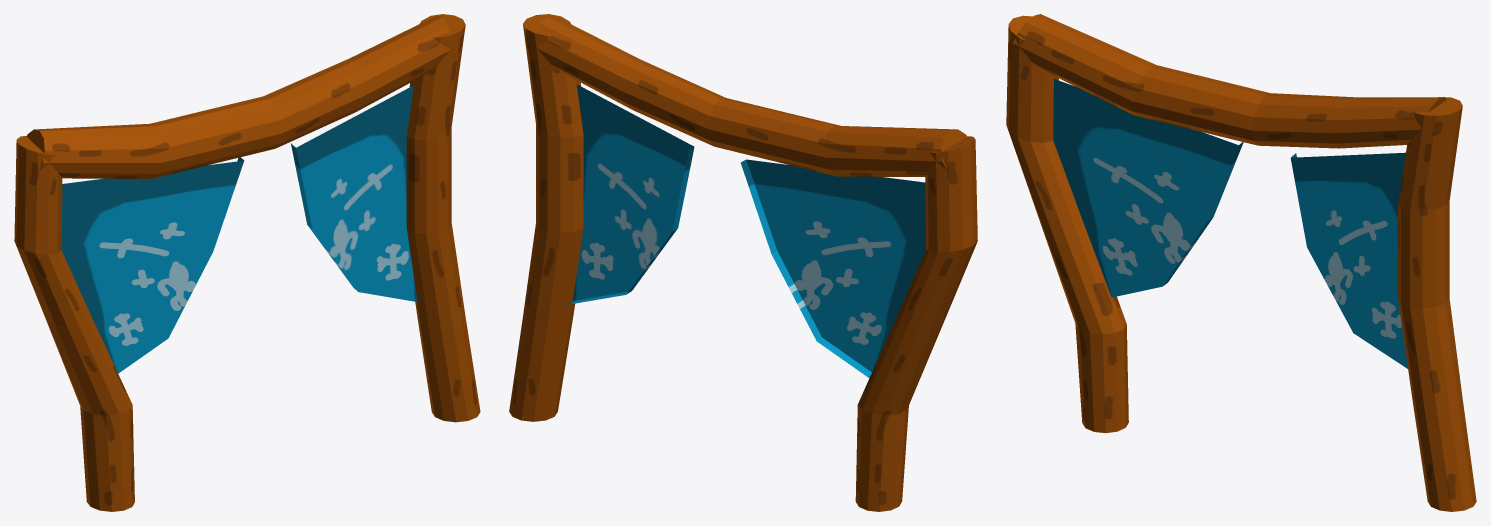
File: window.fbx
3 views of the same model, side by side, from view 1: azimuth 30°, elevation 25°; view 2: azimuth 150°, elevation 25°; view 3: azimuth 330°, elevation 25° (orthographic).
Parts seen in each view (by area): view 1: Cylinder.002; view 2: Cylinder.002; view 3: Cylinder.002.
Part boxes in pixels (<box>): Cylinder.002: <box>14,14,480,511</box>; Cylinder.002: <box>509,14,977,511</box>; Cylinder.002: <box>1006,14,1476,511</box>.
Bounding box in the file's own units: 532 × 48.79 × 446.
